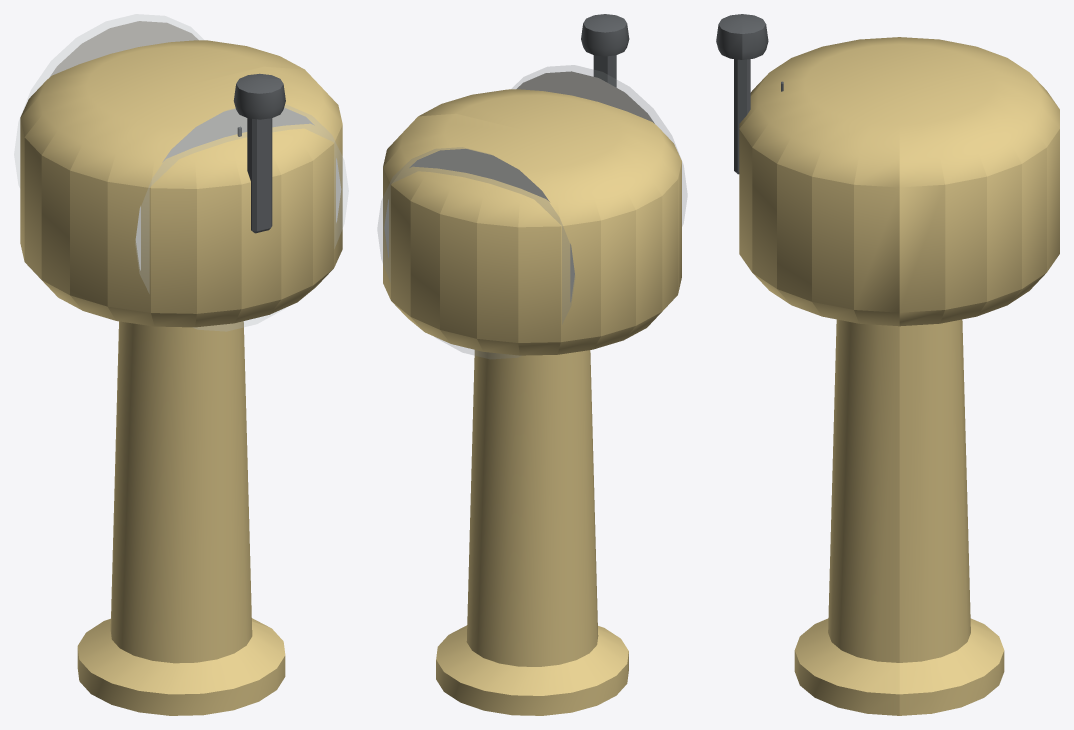
File: submarine-interior-and-control-room-engine-order-teleg-d3c8700a__36489.glb
3 renders of one model, left to right at view 1: azimuth 30°, elevation 25°; view 2: azimuth 150°, elevation 25°; view 3: azimuth 270°, elevation 25°, orthographic. The views are drawn at different scales.
Parts seen in each view (by area): view 1: engine-order-telegraph, telegraph; view 2: engine-order-telegraph, telegraph; view 3: engine-order-telegraph, telegraph.
Boxes of the visible parts, x1=… form: engine-order-telegraph: x1=14, y1=14, x2=348, y2=715; telegraph: x1=233, y1=73, x2=285, y2=233; engine-order-telegraph: x1=377, y1=65, x2=687, y2=715; telegraph: x1=581, y1=14, x2=629, y2=87; engine-order-telegraph: x1=739, y1=37, x2=1059, y2=715; telegraph: x1=716, y1=14, x2=768, y2=174.
Bounding box in the file's own units: 0.6801 × 1.51 × 0.7215.
